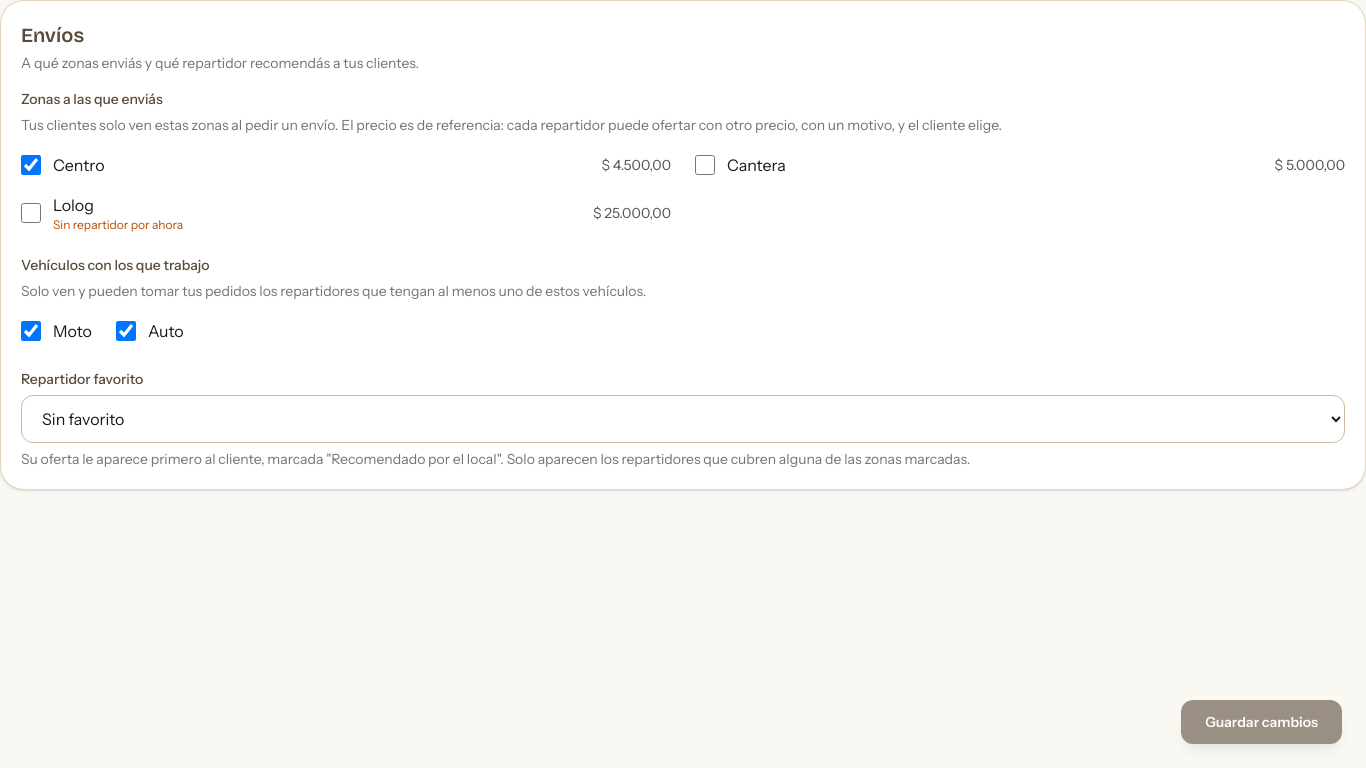
Test: Configuración → Vehículos con los que trabajo — ENVIO-203 › no deja guardar sin ningún vehículo
Click the checkbox labelled "Auto" at (126, 331), box [116, 321, 136, 341]
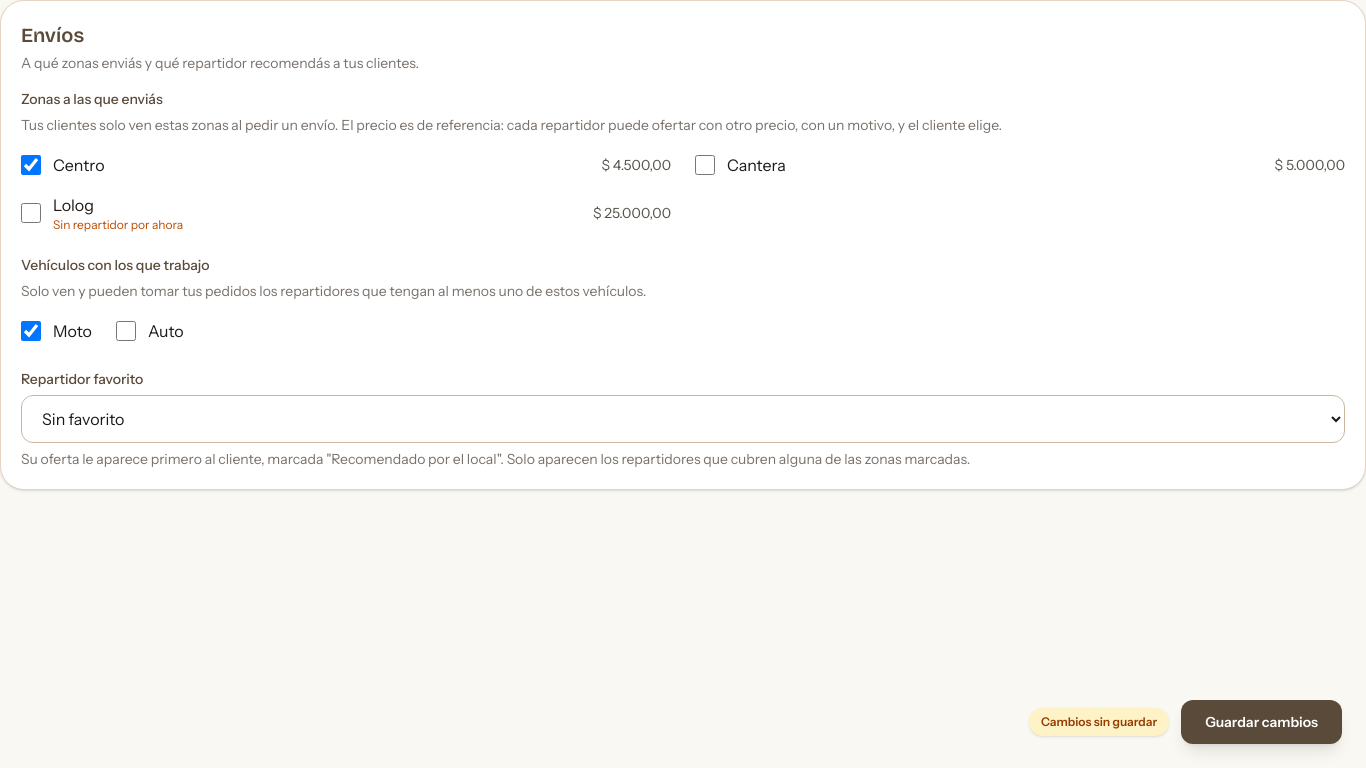
Click the checkbox labelled "Moto" at (31, 331), box [21, 321, 41, 341]
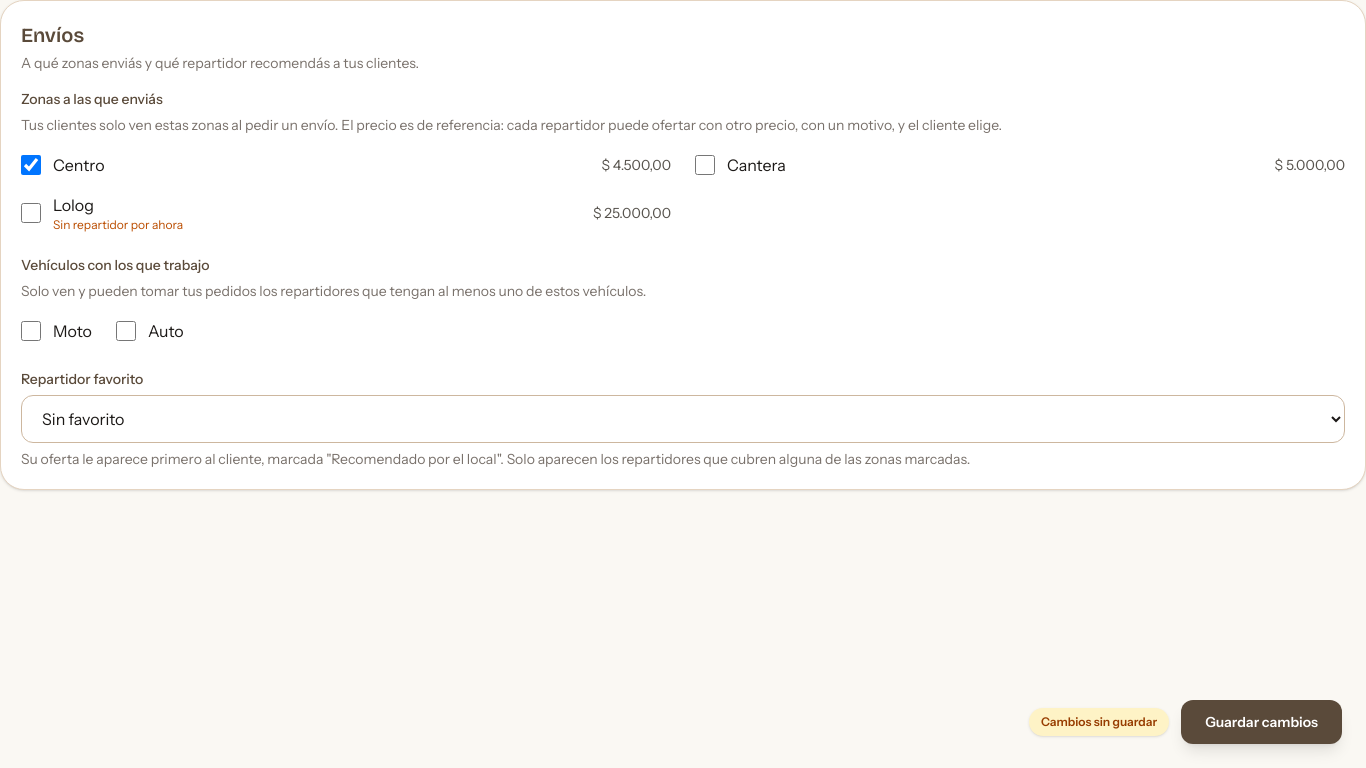
Click the button "Guardar cambios" at (1262, 722), box [1181, 700, 1342, 744]
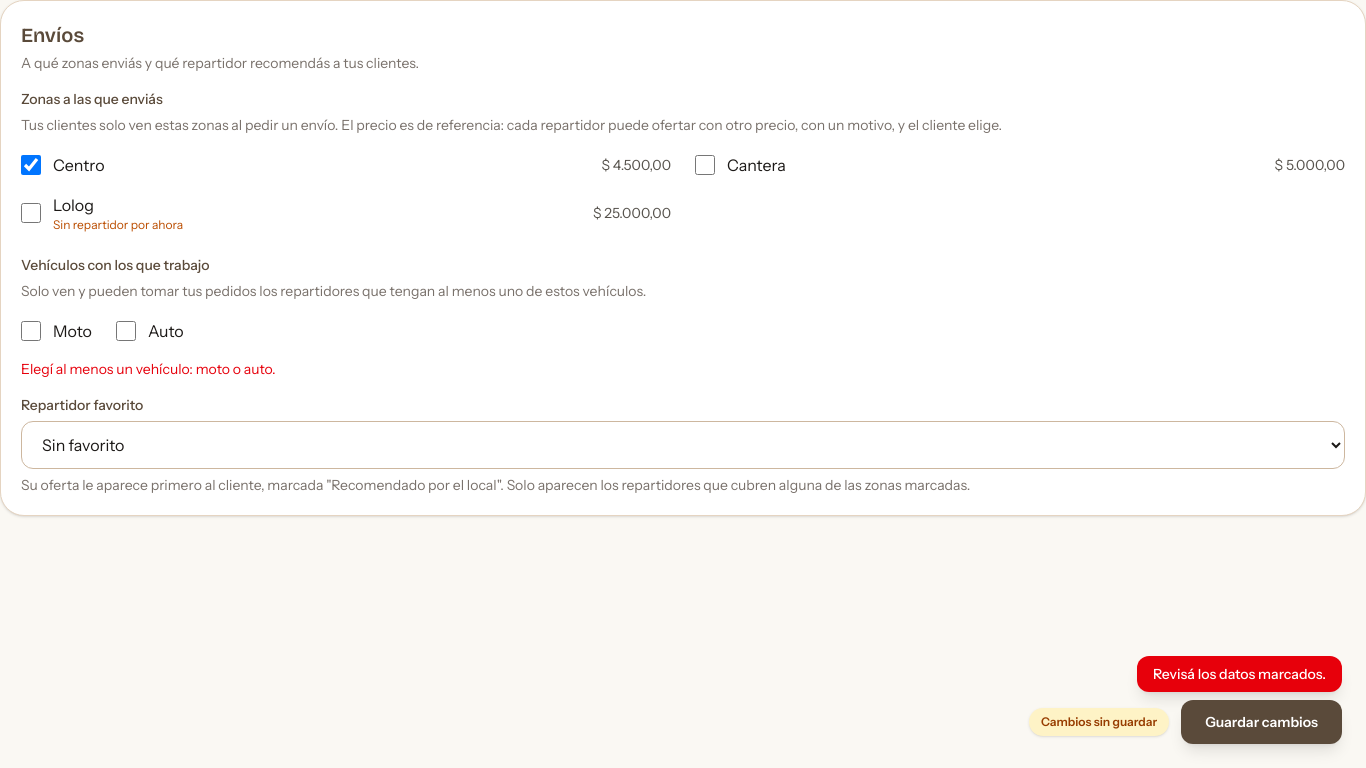
Expected: the text "Elegí al menos un vehículo: moto o auto." is shown, [21, 360, 276, 378]
